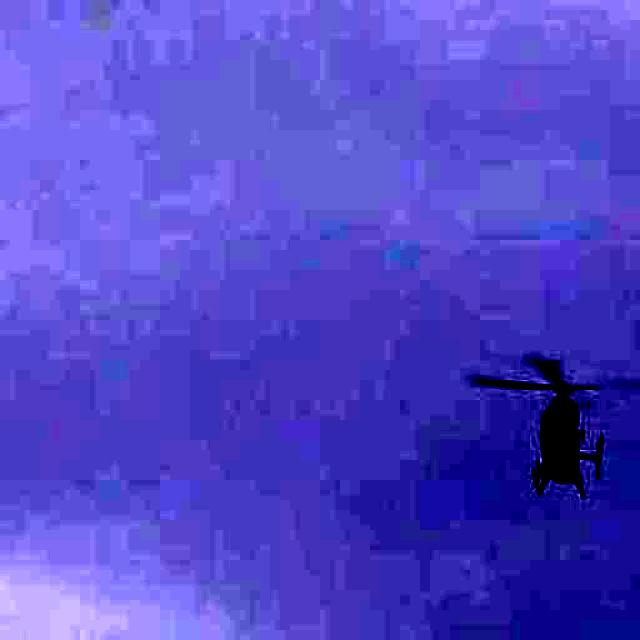drone: (455, 334, 640, 520)
